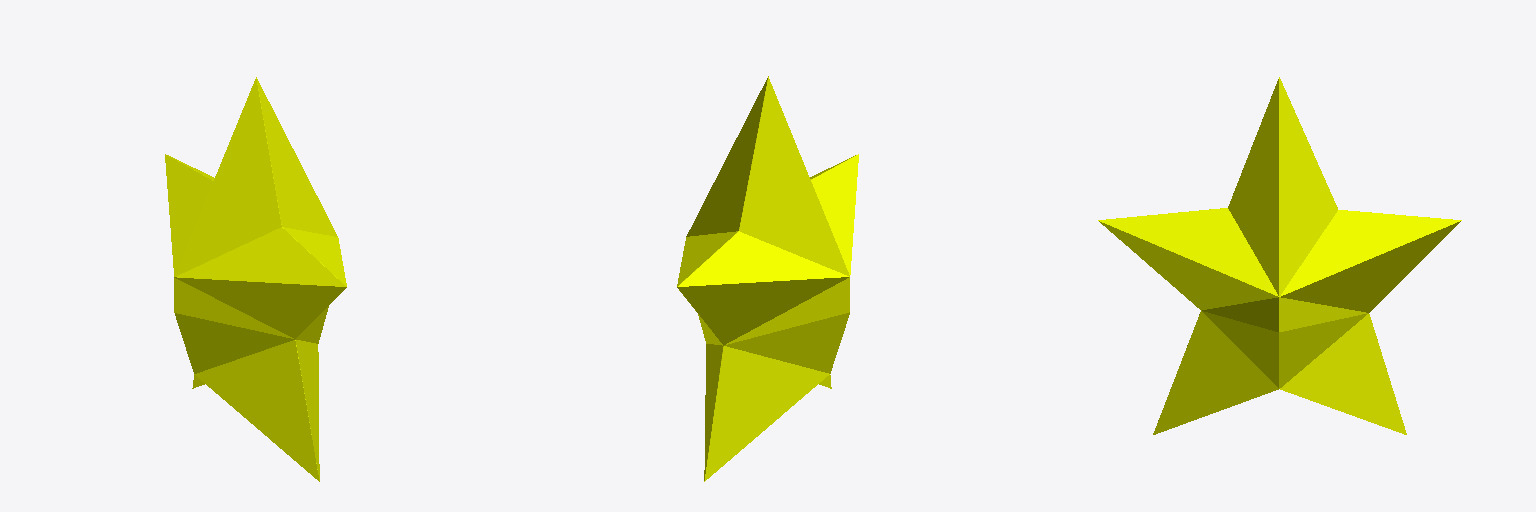
File: star.obj
3 views of the same model, side by side, from view 1: azimuth 30°, elevation 25°; view 2: azimuth 150°, elevation 25°; view 3: azimuth 270°, elevation 25° (orthographic).
Visible parts, largest first — view 1: pCube1; view 2: pCube1; view 3: pCube1.
Part boxes in pixels (x1,y1,x2,y2): pCube1: (165,77,346,481); pCube1: (677,76,858,481); pCube1: (1098,77,1461,434).
Size of the model in its own units: 0.4783 by 1 by 0.9204.